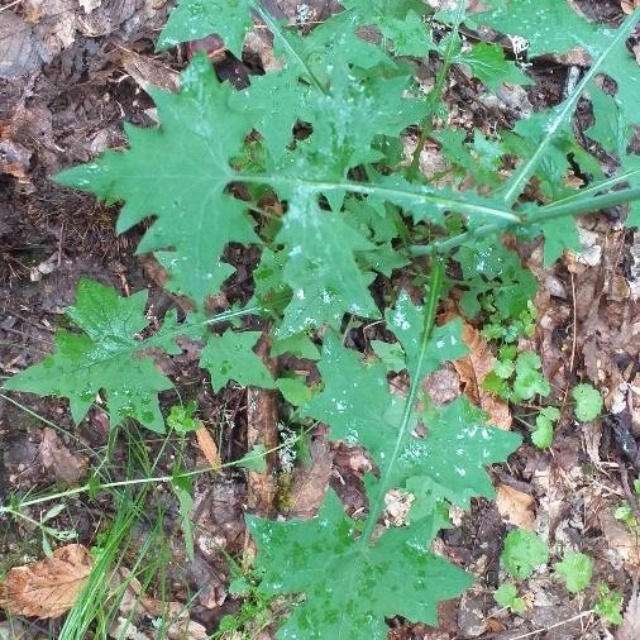obstacle: (90, 49, 530, 612)
